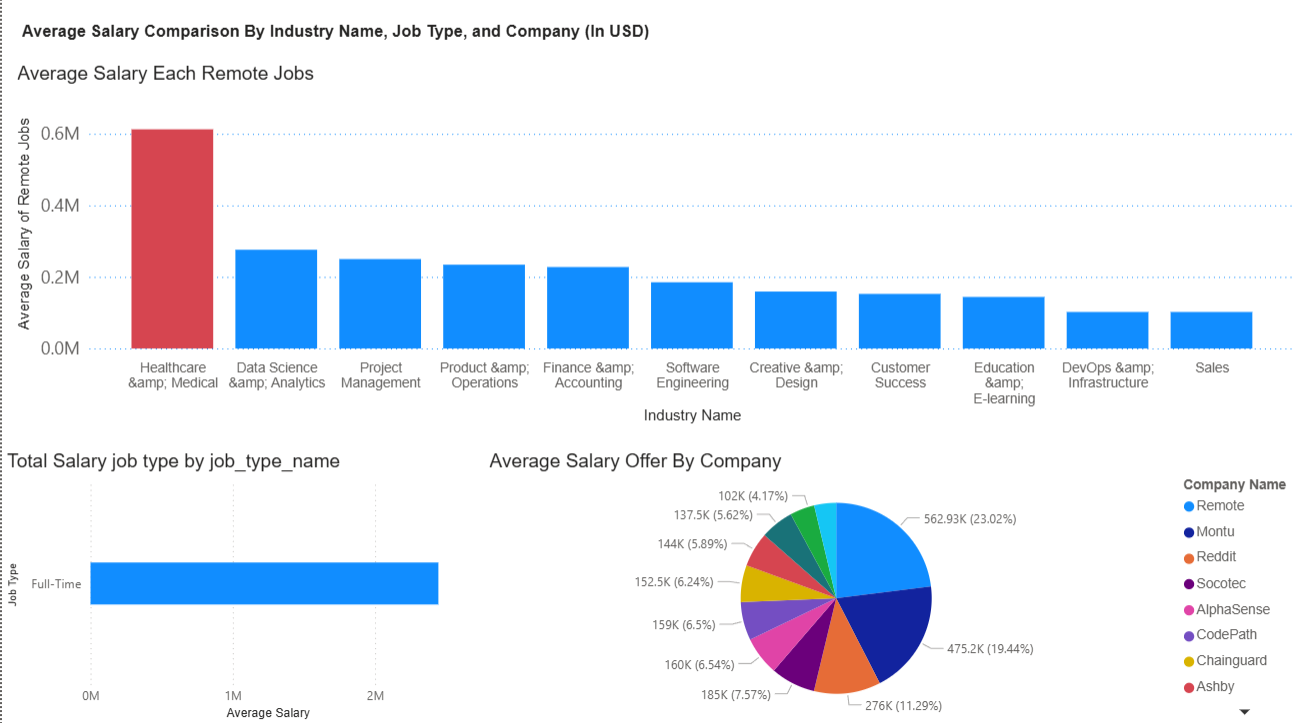

What the dashboard file says about the page in this screenshot:
{"tool":"powerbi","page":{"name":"Page 1","canvas":[1280,720],"ordinal":0},"visuals":[{"type":"columnChart","title":"Average Salary Each Remote Jobs","fields":{"Category":["avg_salary_per_industry.industry_name"],"Y":["avg_salary_per_industry.Total Salary USD","avg_salary_per_industry.Total Salary USD"]},"box":[0,56.2,1280,383.8],"z":0},{"type":"barChart","fields":{"Category":["avg_salary_per_job_type.job_type_name"],"Y":["avg_salary_per_job_type.Total Salary job type"]},"box":[0,451.2,448.8,268.8],"z":1},{"type":"pieChart","title":"Average Salary Offer By Company","fields":{"Category":["avg_salary_per_company.company_name"],"Y":["avg_salary_per_company.Total Salary company"]},"box":[472.5,451.2,807.5,268.8],"z":2},{"type":"textbox","box":[15,27.5,673.8,35],"z":3}]}

Visuals, with their boxes in screenshot pixels (x1, y1, x2, y2), scaled from the page's 1280x720 canvas onto the 1307x723 screenshot:
"Average Salary Each Remote Jobs" columnChart: 0,56,1306,442
barChart - avg_salary_per_job_type.job_type_name x avg_salary_per_job_type.Total Salary job type: 0,453,458,722
"Average Salary Offer By Company" pieChart: 482,453,1306,722
textbox: 15,28,703,63
